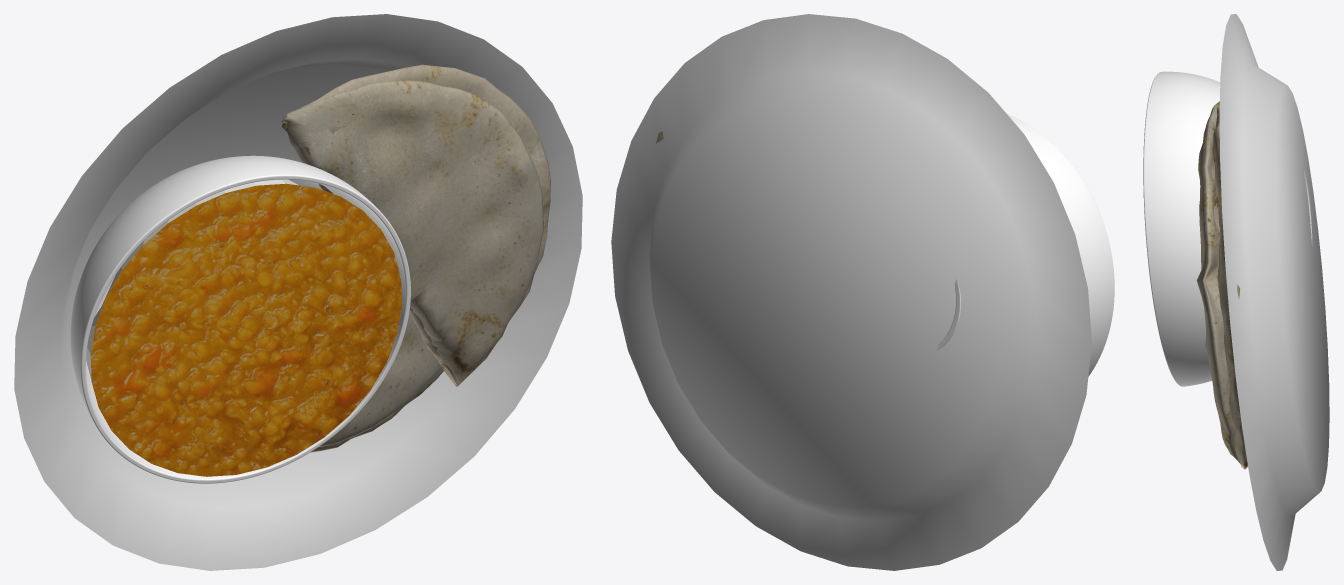
File: haleem.glb
3 renders of one model, left to right at view 1: azimuth 30°, elevation 25°; view 2: azimuth 150°, elevation 25°; view 3: azimuth 270°, elevation 25°, orthographic. The views are drawn at different scales.
Visible parts, largest first — view 1: Circle.002, coffee.004, Cylinder.002, Kugel.005, Cylinder.001; view 2: Circle.002, Kugel.005; view 3: Circle.002, Kugel.005, Cylinder.002.
Boxes of the visible parts, left/top/right/bottom form: Circle.002: left=14, top=14, right=582, bottom=570; coffee.004: left=86, top=179, right=401, bottom=476; Cylinder.002: left=281, top=64, right=550, bottom=386; Kugel.005: left=70, top=155, right=410, bottom=483; Cylinder.001: left=310, top=313, right=443, bottom=452; Circle.002: left=611, top=14, right=1091, bottom=570; Kugel.005: left=936, top=113, right=1114, bottom=376; Circle.002: left=1219, top=14, right=1329, bottom=570; Kugel.005: left=1143, top=71, right=1312, bottom=386; Cylinder.002: left=1196, top=101, right=1247, bottom=469.
Size of the model in its own units: 8.73 by 8.68 by 2.91.
5 materials, 4 textured.
